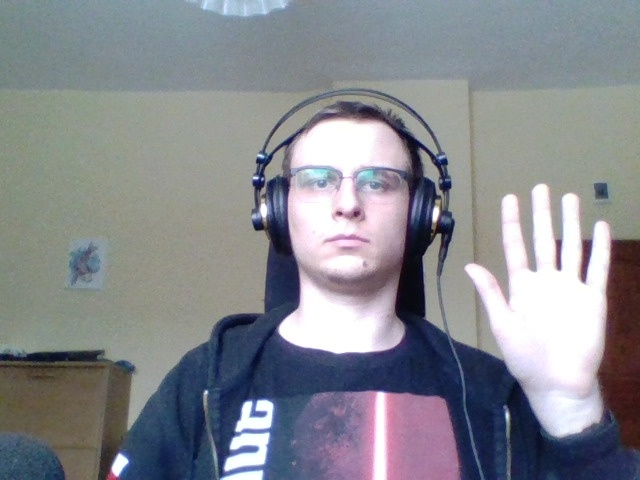hello: (460, 182, 632, 410)
